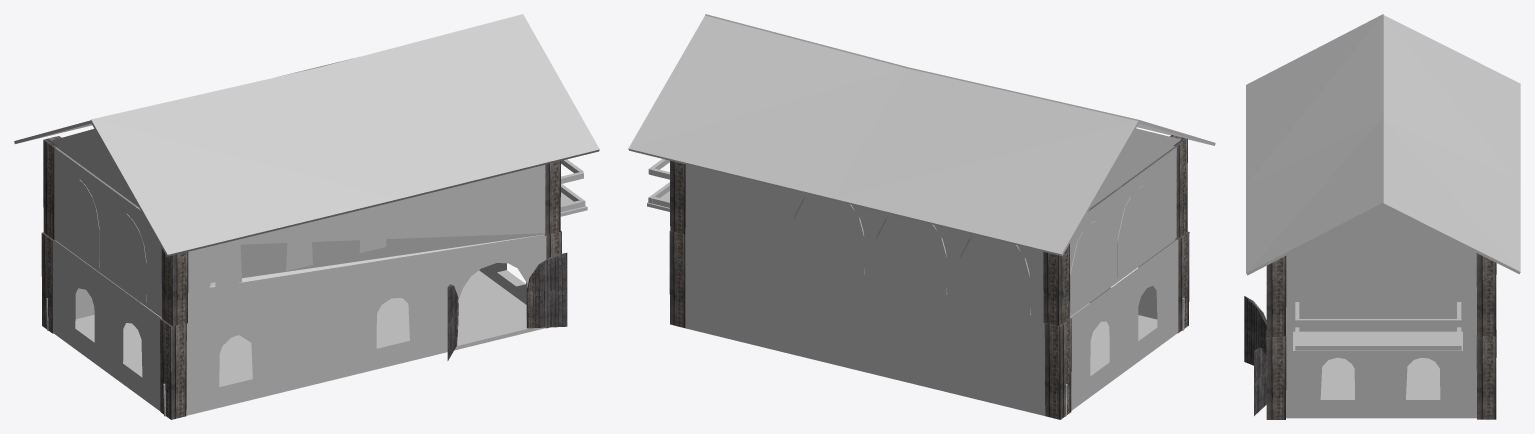
File: tavern_storage_house_LOD2.obj
The picture shows the model from 3 angles, left to right: view 1: azimuth 30°, elevation 25°; view 2: azimuth 150°, elevation 25°; view 3: azimuth 270°, elevation 25°; orthographic projection. The views are drawn at different scales.
Visible parts, largest first — view 1: Material2, DefaultLib2_roof_01, DefaultLib1_WoodPlanks_ornaments, DefaultLib2_dorwindow_set, DefaultLib2_WoodPlanks; view 2: DefaultLib2_roof_01, Material2, DefaultLib2_dorwindow_set, DefaultLib1_WoodPlanks_ornaments, DefaultLib2_WoodPlanks; view 3: DefaultLib2_roof_01, Material2, DefaultLib1_WoodPlanks_ornaments, DefaultLib2_WoodPlanks, DefaultLib2_dorwindow_set.
Boxes of the visible parts, x1=… form: Material2: x1=51, y1=129, x2=546, y2=415; DefaultLib2_roof_01: x1=14, y1=14, x2=599, y2=256; DefaultLib1_WoodPlanks_ornaments: x1=41, y1=136, x2=567, y2=419; DefaultLib2_dorwindow_set: x1=58, y1=164, x2=523, y2=302; DefaultLib2_WoodPlanks: x1=46, y1=159, x2=587, y2=416; DefaultLib2_roof_01: x1=628, y1=14, x2=1215, y2=256; Material2: x1=675, y1=128, x2=1181, y2=415; DefaultLib2_dorwindow_set: x1=793, y1=173, x2=1158, y2=315; DefaultLib1_WoodPlanks_ornaments: x1=669, y1=135, x2=1189, y2=419; DefaultLib2_WoodPlanks: x1=647, y1=159, x2=1184, y2=416; DefaultLib2_roof_01: x1=1246, y1=14, x2=1520, y2=275; Material2: x1=1286, y1=206, x2=1476, y2=418; DefaultLib1_WoodPlanks_ornaments: x1=1244, y1=253, x2=1496, y2=419; DefaultLib2_WoodPlanks: x1=1293, y1=302, x2=1462, y2=353; DefaultLib2_dorwindow_set: x1=1313, y1=267, x2=1443, y2=311.
Bounding box in the file's own units: 26.58 × 14.65 × 15.97.
